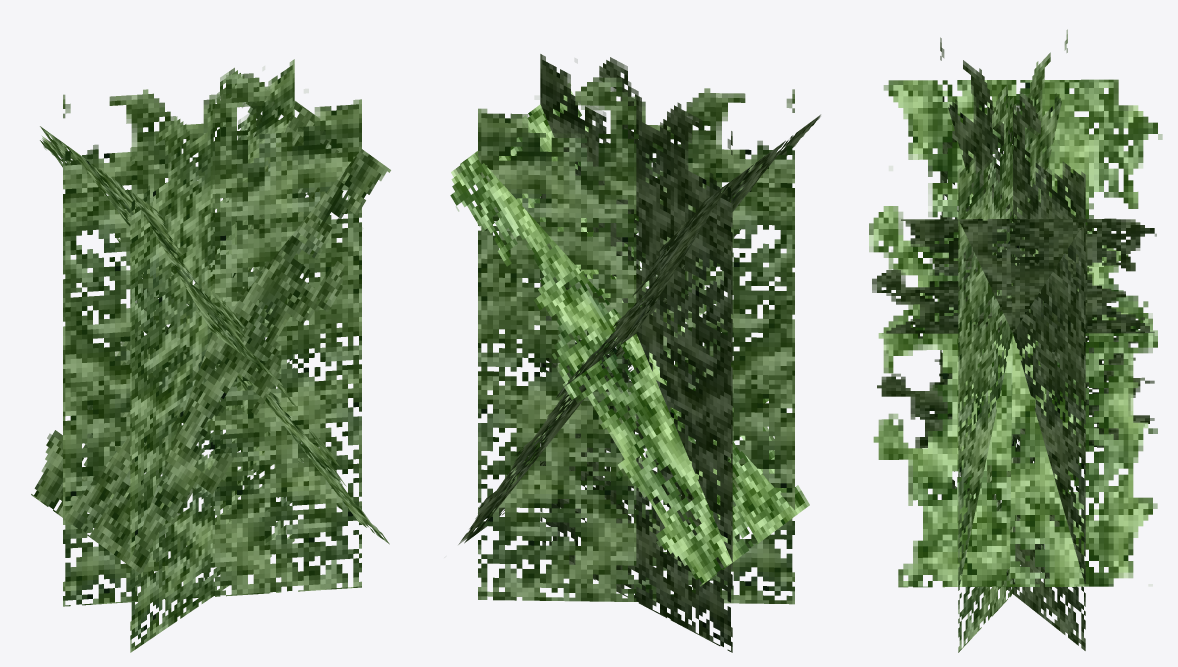
Rendered from bush_tall_half_full_overgrown_summer.glb.
The picture shows the model from 3 angles, left to right: view 1: azimuth 30°, elevation 25°; view 2: azimuth 150°, elevation 25°; view 3: azimuth 270°, elevation 25°; orthographic projection. The views are drawn at different scales.
Parts seen in each view (by area): view 1: bush_tall_half_full_overgrown_summer; view 2: bush_tall_half_full_overgrown_summer; view 3: bush_tall_half_full_overgrown_summer.
Part boxes in pixels (<box>): bush_tall_half_full_overgrown_summer: <box>31,59,390,652</box>; bush_tall_half_full_overgrown_summer: <box>450,54,820,652</box>; bush_tall_half_full_overgrown_summer: <box>869,29,1162,652</box>.
Size of the model in its own units: 1 by 2.06 by 1.08.
Materials: 1 (1 with a texture image).
